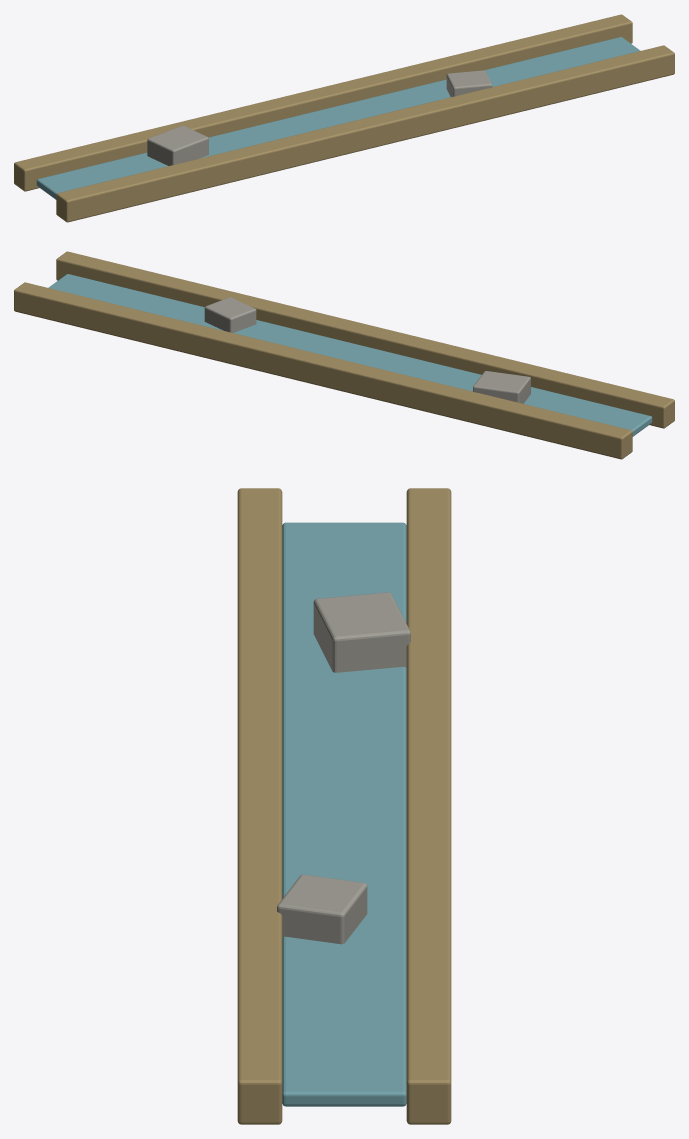
The model's file is woodland-stream-segment-01--autumn-bank.glb.
3 views of the same model, one above another, from view 1: azimuth 30°, elevation 25°; view 2: azimuth 150°, elevation 25°; view 3: azimuth 270°, elevation 25° (orthographic). The views are drawn at different scales.
Parts seen in each view (by area): view 1: woodland-stream-segment-01--autumn-bank; view 2: woodland-stream-segment-01--autumn-bank; view 3: woodland-stream-segment-01--autumn-bank.
Boxes of the visible parts, x1=… form: woodland-stream-segment-01--autumn-bank: x1=14, y1=14, x2=674, y2=222; woodland-stream-segment-01--autumn-bank: x1=14, y1=251, x2=674, y2=459; woodland-stream-segment-01--autumn-bank: x1=237, y1=488, x2=451, y2=1124.
Size of the model in its own units: 1.58 by 0.0695 by 0.24.
